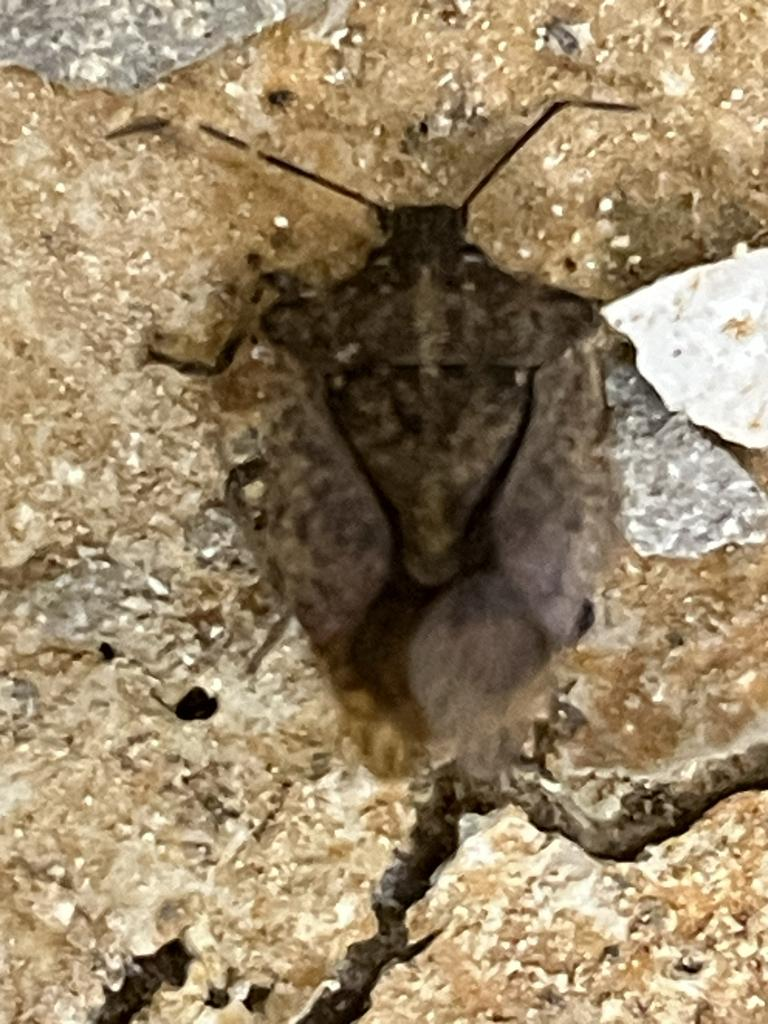stink_bugs: (0, 14, 768, 886)
